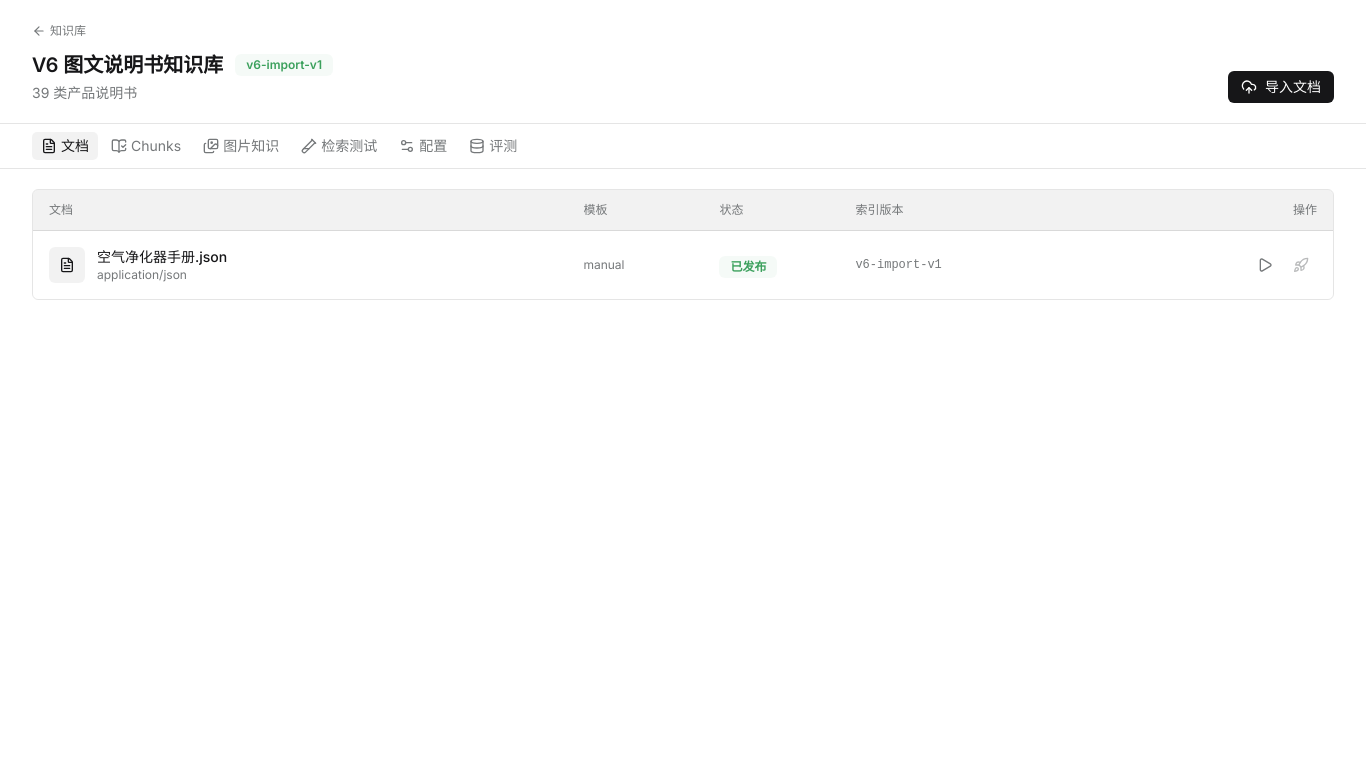
Test: RAGFlow Dataset workspace › runs the real retrieval contract and exposes stage scores
Expected: the text "空气净化器手册.json" is shown, [97, 247, 227, 267]
Expected: the text "已发布" is shown, [719, 256, 777, 278]
Click the button "检索测试" at [339, 146], box [292, 132, 386, 160]
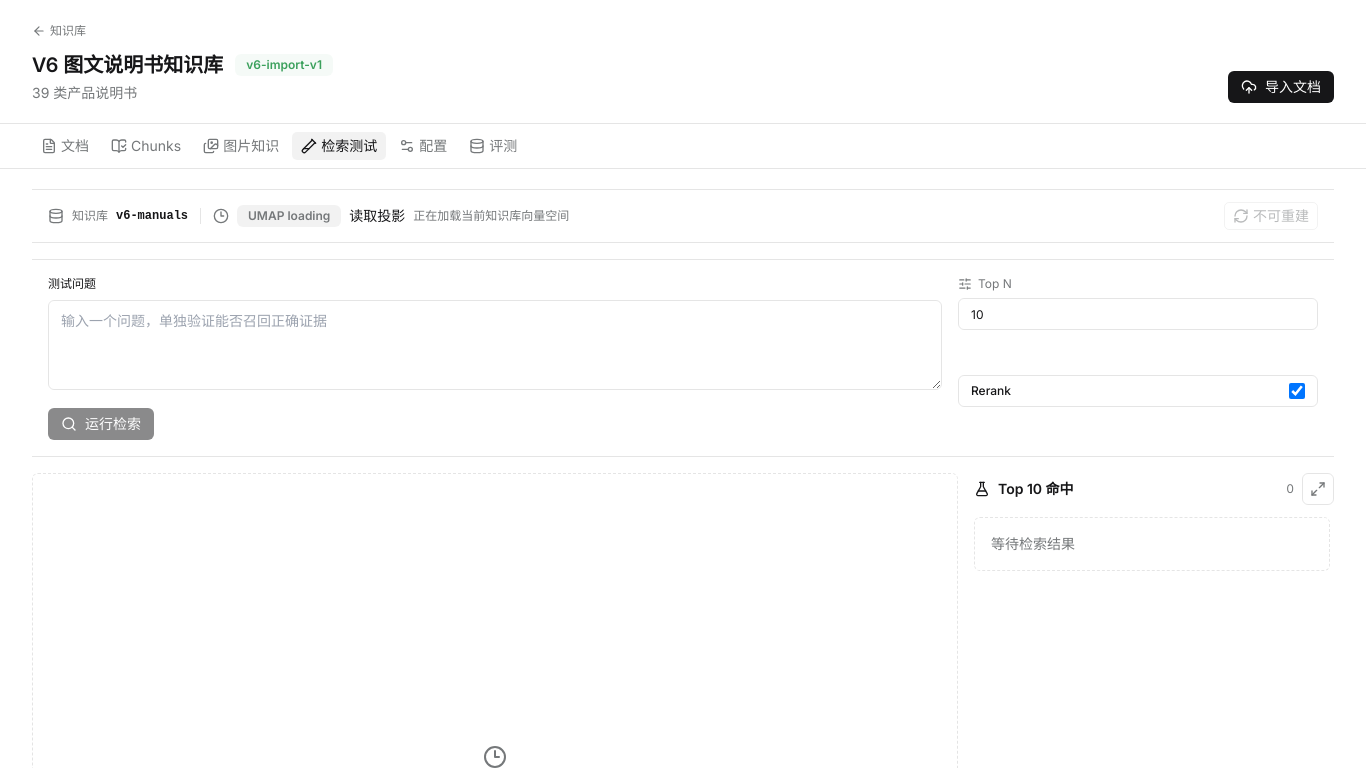
Type "空气净化器滤网怎么清洁？" into the text box labelled "测试问题" at [495, 345], box [48, 300, 942, 390]
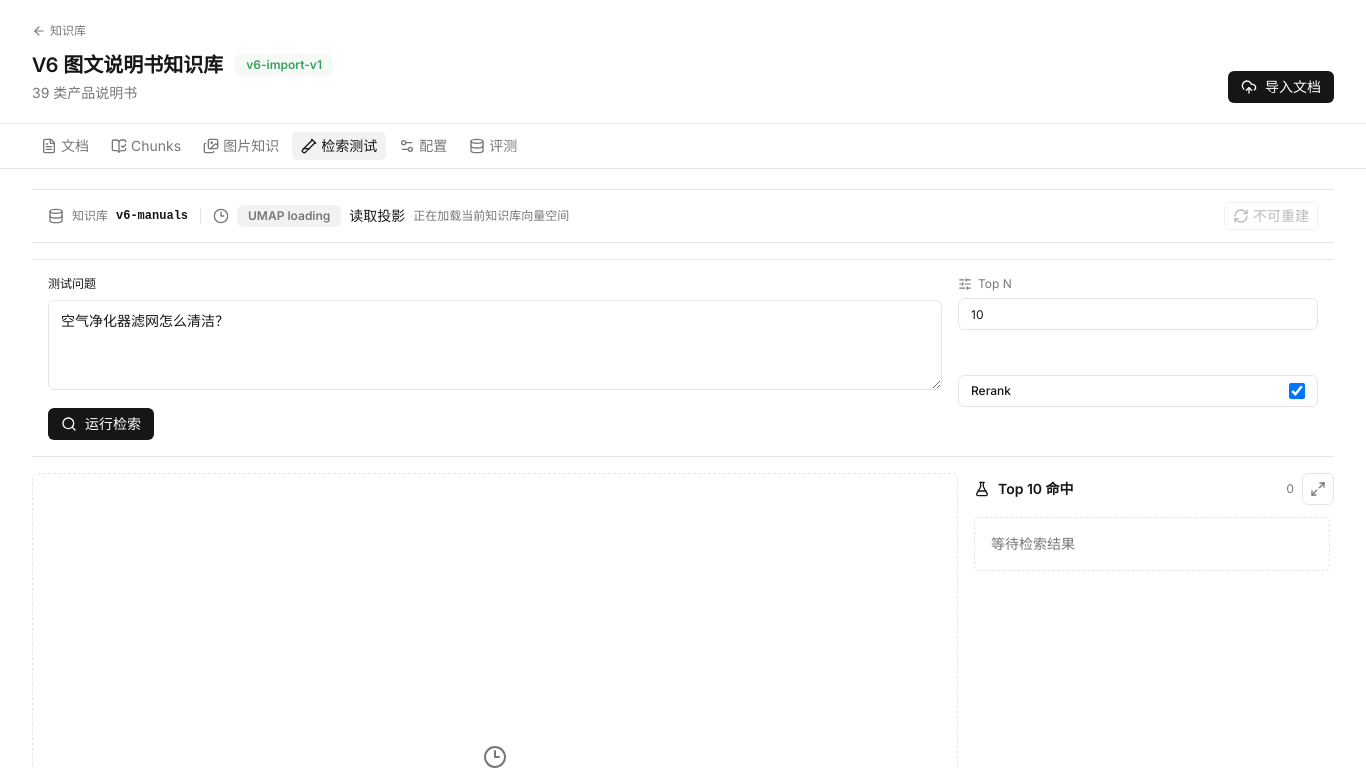
Click the button "运行检索" at [101, 424], box [48, 408, 154, 440]
(page scrolled)
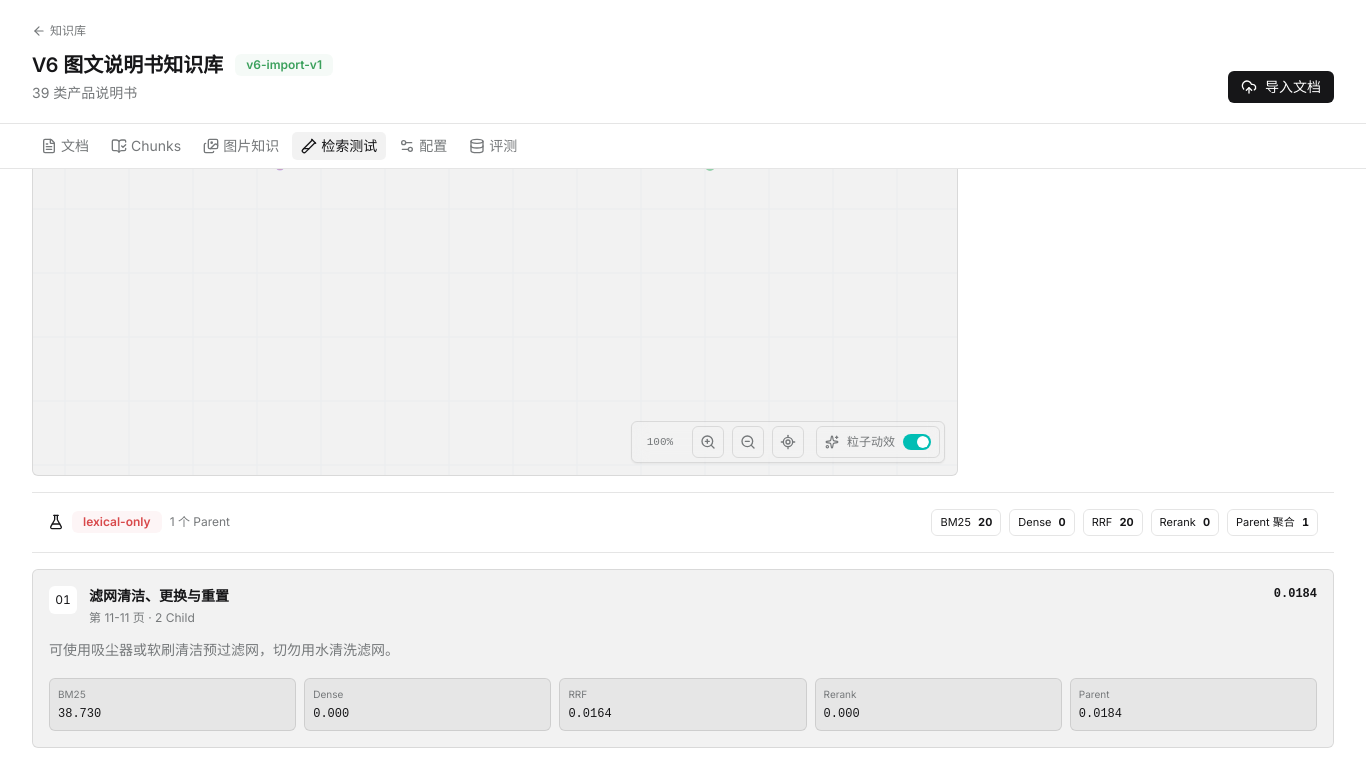
Result: the text "lexical-only" is shown at [72, 511, 162, 533]
Result: the heading "滤网清洁、更换与重置" is shown at [89, 586, 229, 604]
Result: the text "38.730" is shown at [58, 706, 101, 720]
